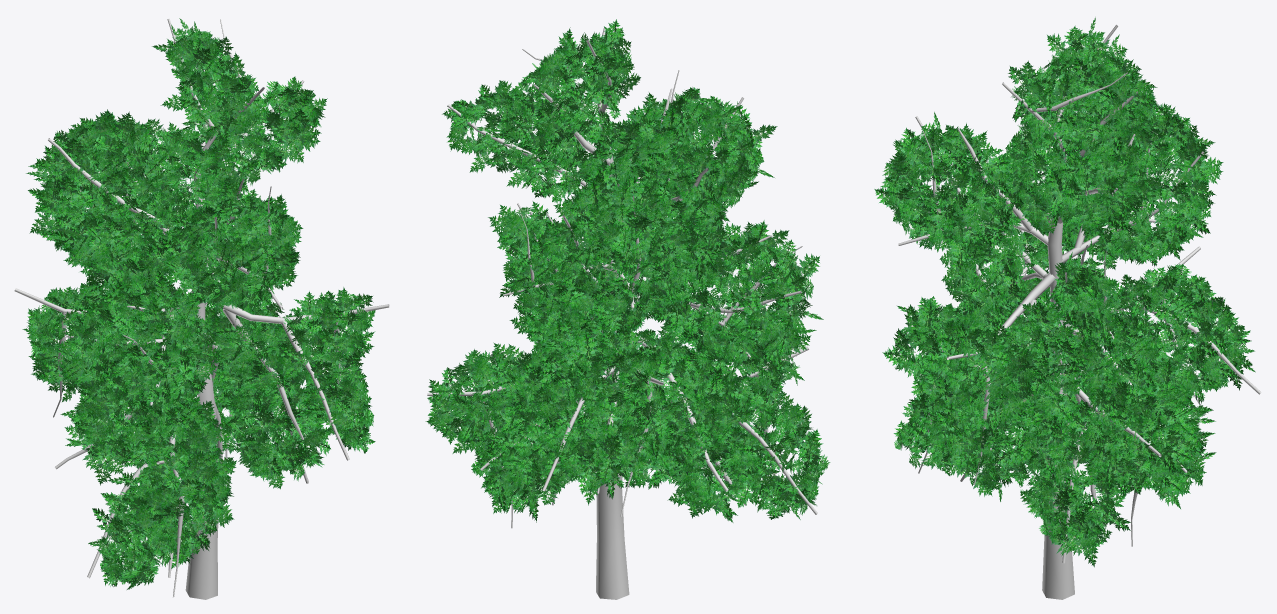
Rendered from Arbol_Maestre.fbx.
3 views of the same model, side by side, from view 1: azimuth 30°, elevation 25°; view 2: azimuth 150°, elevation 25°; view 3: azimuth 270°, elevation 25° (orthographic). The views are drawn at different scales.
Visible parts, largest first — view 1: Leaves_Arbol_maestre, Tronco_arbol_maestre; view 2: Leaves_Arbol_maestre, Tronco_arbol_maestre; view 3: Leaves_Arbol_maestre, Tronco_arbol_maestre.
Part boxes in pixels (bbox=[...]): Leaves_Arbol_maestre: bbox=[22, 18, 375, 589]; Tronco_arbol_maestre: bbox=[14, 18, 389, 599]; Leaves_Arbol_maestre: bbox=[425, 19, 830, 522]; Tronco_arbol_maestre: bbox=[427, 27, 817, 599]; Leaves_Arbol_maestre: bbox=[874, 17, 1255, 567]; Tronco_arbol_maestre: bbox=[898, 25, 1261, 599].
Bounding box in the file's own units: 840 × 1432 × 902.
